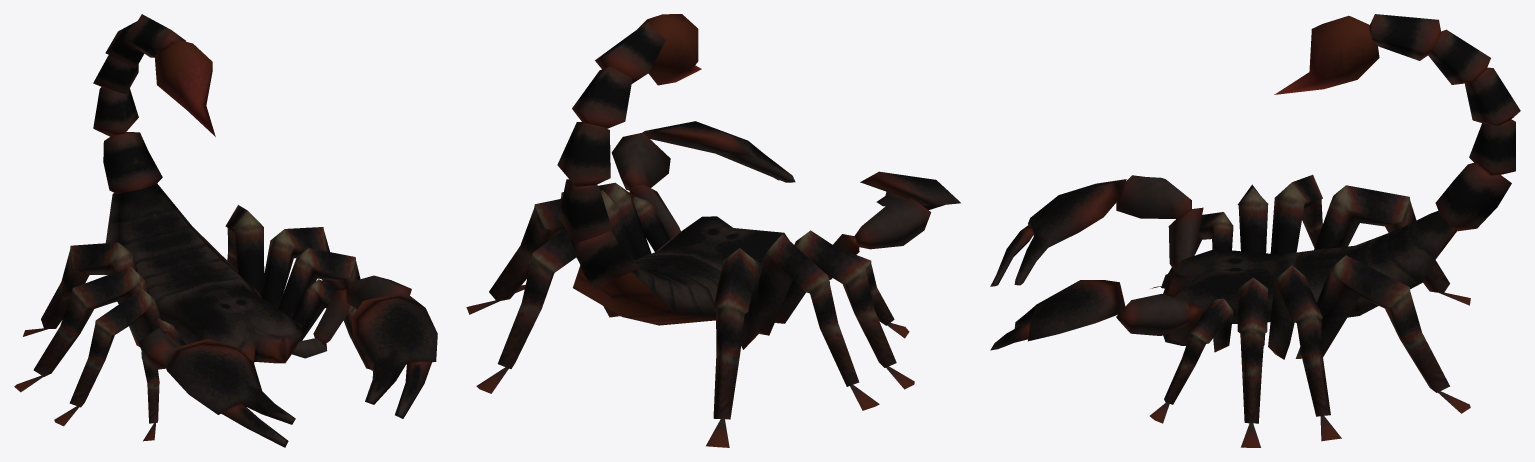
File: InsectSasori.glb
3 renders of one model, left to right at view 1: azimuth 30°, elevation 25°; view 2: azimuth 150°, elevation 25°; view 3: azimuth 270°, elevation 25°, orthographic. The views are drawn at different scales.
Visible parts, largest first — view 1: pCube10__mSasori; view 2: pCube10__mSasori; view 3: pCube10__mSasori.
Part boxes in pixels (left/top/right/bottom): pCube10__mSasori: left=14, top=14, right=437, bottom=447; pCube10__mSasori: left=466, top=14, right=960, bottom=447; pCube10__mSasori: left=990, top=14, right=1520, bottom=447.
Bounding box in the file's own units: 4.97 × 4.23 × 5.92.
1 material, 1 textured.
